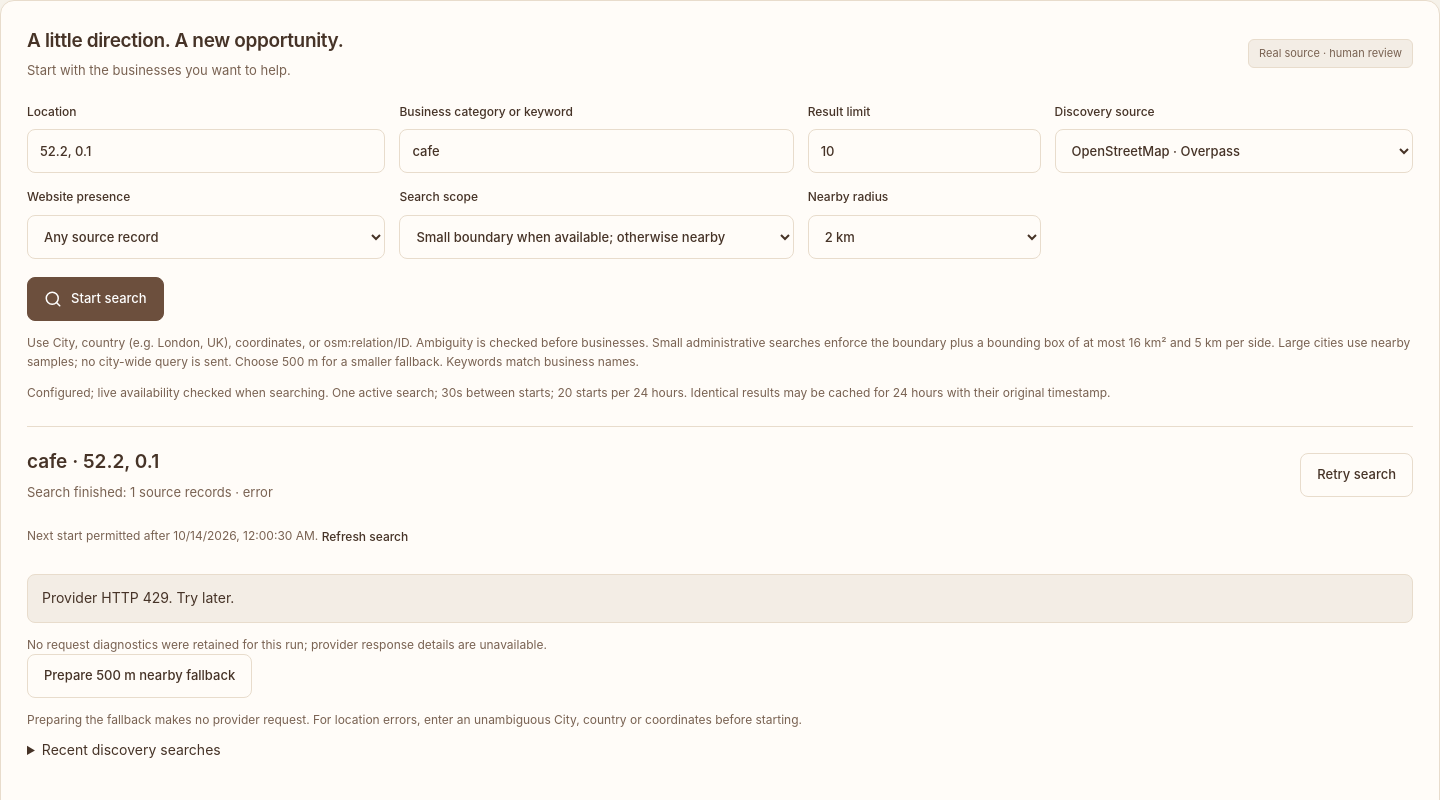
Test: shows actionable throttling errors and sends an explicit retry
Expected: the message "Provider HTTP 429. Try later." is shown, [27,574,1413,623]
What coordinates should you click on to do the following:
click the button "Retry search"
I would click on:
 (1357, 475)
Its box is [1300,453,1413,497].
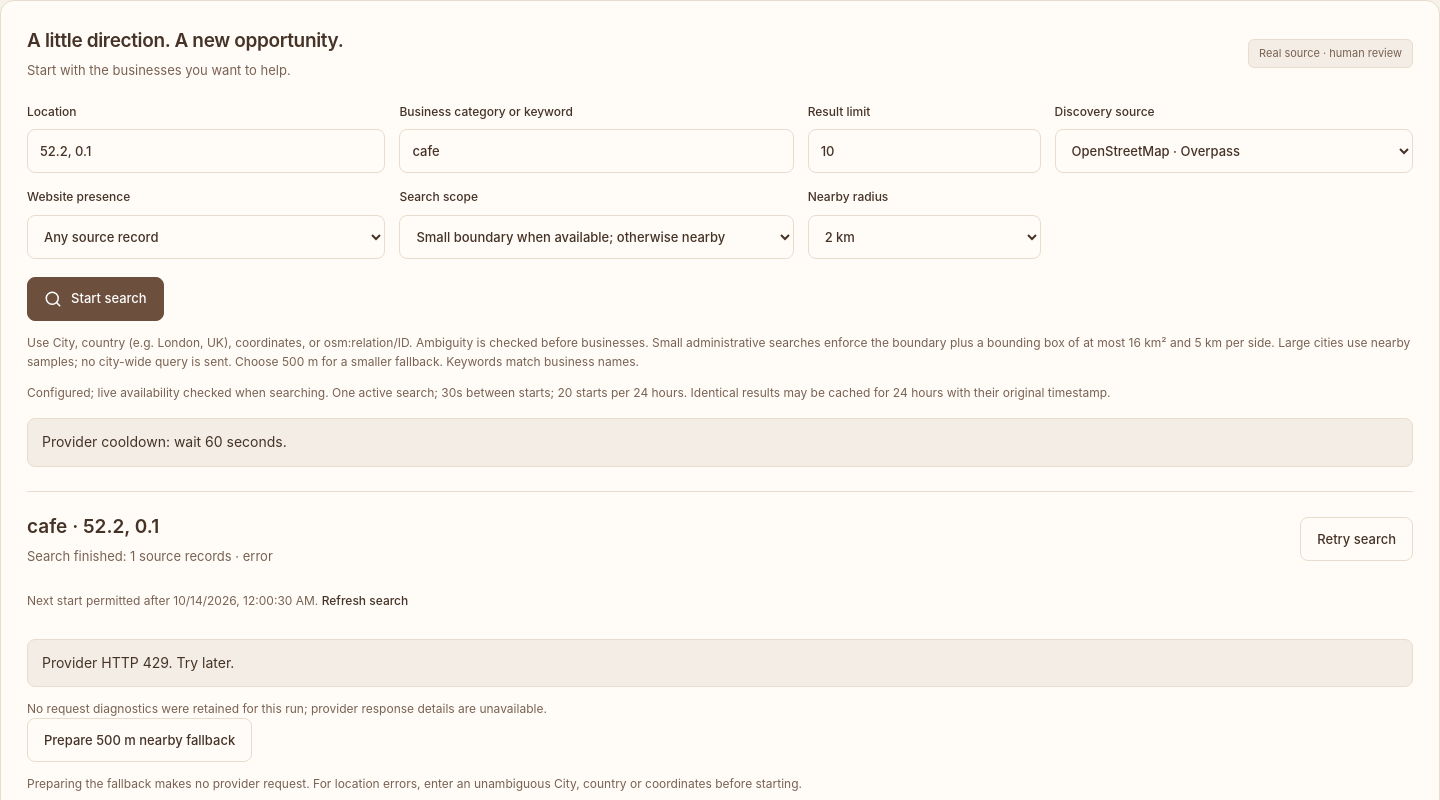
Expected: the text "Provider cooldown: wait 60 seconds." is shown, [27,418,1413,466]
